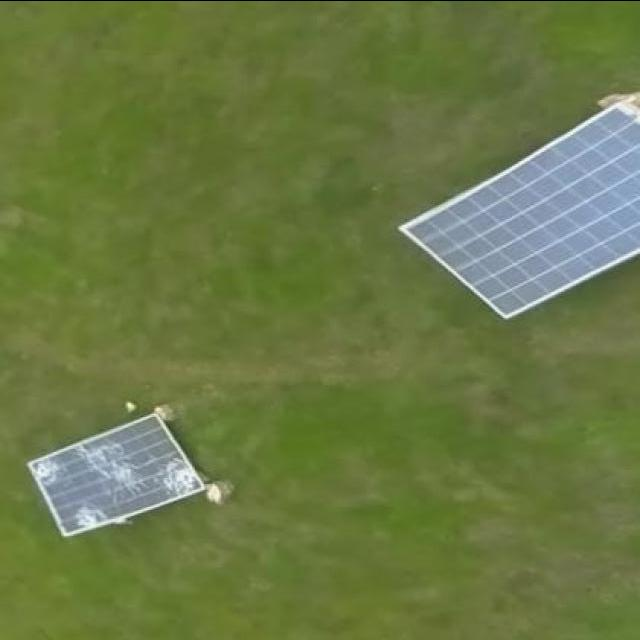cracked: (22, 405, 210, 541)
